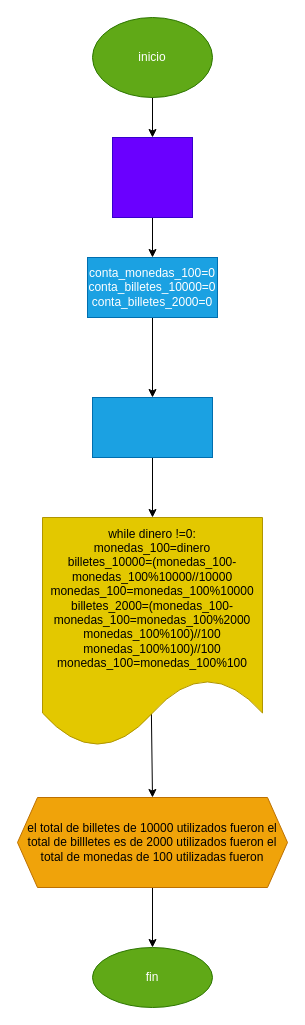
Some shapes in this 305 by 1025 pixel diagram are drawn without their labels. Here are the shapes that lost their labels. From the top down, the centre of each, then its label:
At point (152, 177): "digite el dinero para retirar!".
At point (152, 427): "processing".
